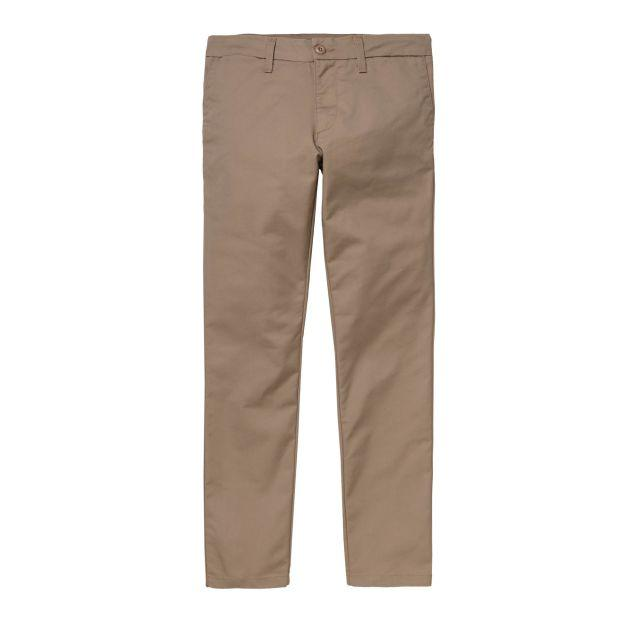long-pants: (202, 34, 437, 593)
